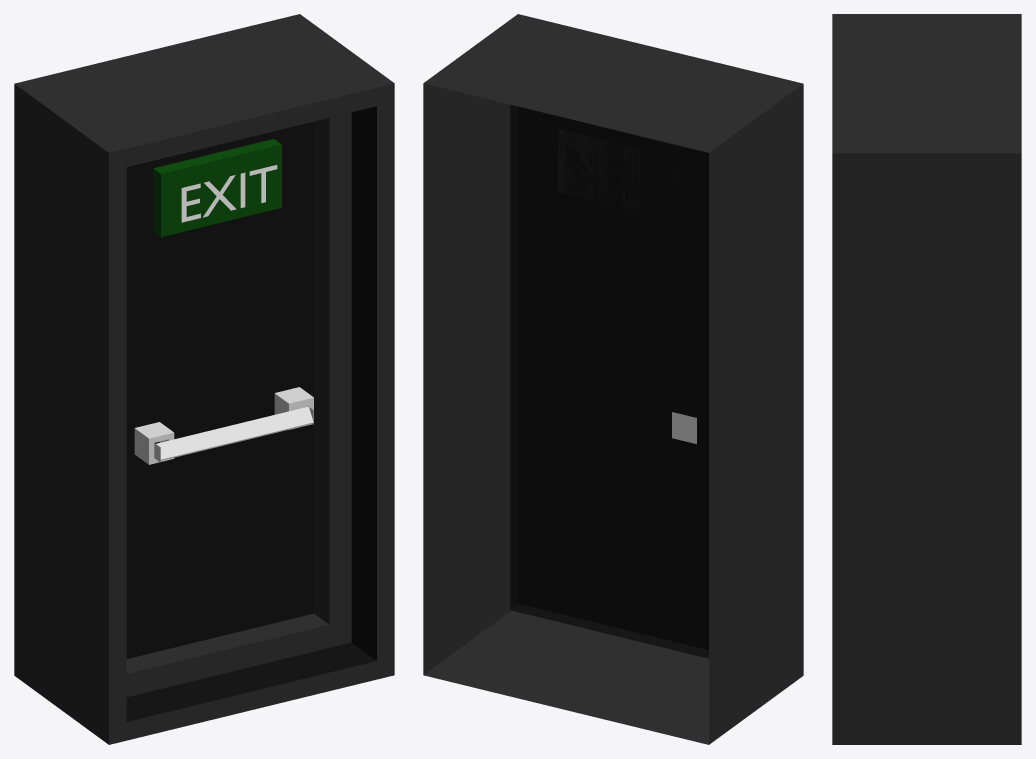
The model's file is exitdoor.obj.
The picture shows the model from 3 angles, left to right: view 1: azimuth 30°, elevation 25°; view 2: azimuth 150°, elevation 25°; view 3: azimuth 270°, elevation 25°; orthographic projection.
Parts seen in each view (by area): view 1: Cube, Plane, Cube.004, Text, Cube.001, Cube.002; view 2: Cube, Plane, Cube.001; view 3: Cube.
Boxes of the visible parts, bbox=[...] form: Cube: bbox=[14, 14, 394, 744]; Plane: bbox=[153, 139, 281, 237]; Cube.004: bbox=[156, 406, 313, 461]; Text: bbox=[181, 165, 277, 222]; Cube.001: bbox=[134, 422, 174, 464]; Cube.002: bbox=[274, 387, 313, 429]; Cube: bbox=[423, 14, 803, 744]; Plane: bbox=[557, 129, 677, 211]; Cube.001: bbox=[672, 412, 696, 444]; Cube: bbox=[832, 14, 1021, 744].
Size of the model in its own units: 3.74 by 7.42 by 2.15.
